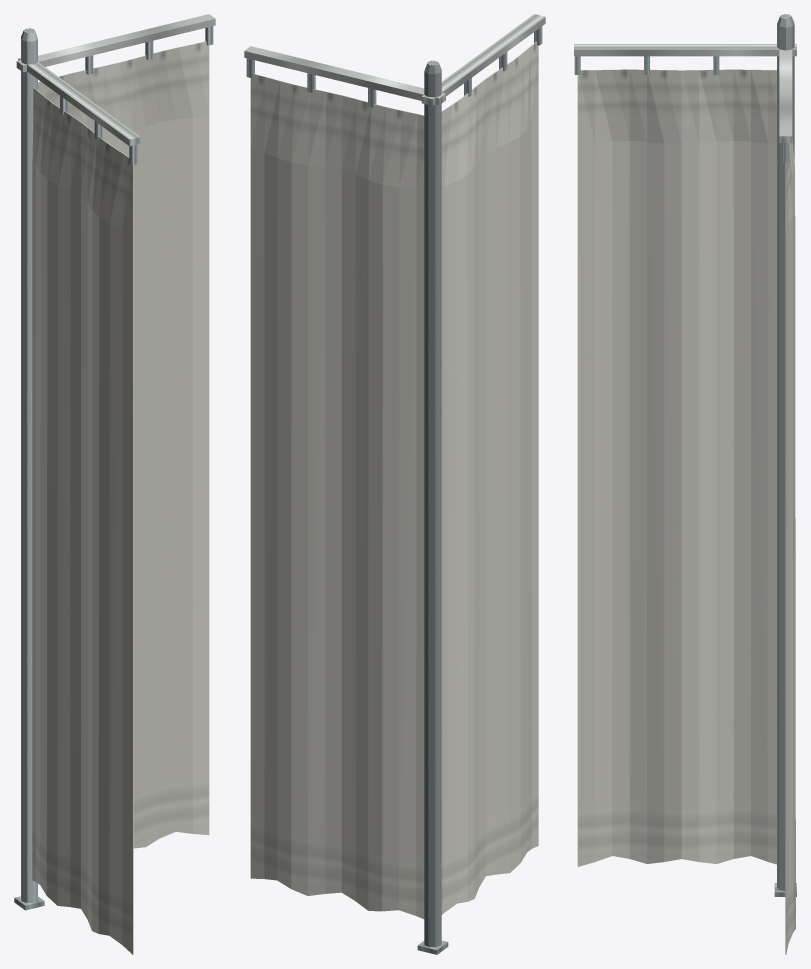
The model's file is pool_curtain_corner.glb.
The picture shows the model from 3 angles, left to right: view 1: azimuth 30°, elevation 25°; view 2: azimuth 150°, elevation 25°; view 3: azimuth 270°, elevation 25°; orthographic projection.
Visible parts, largest first — view 1: core_pool_curtain_corner; view 2: core_pool_curtain_corner; view 3: core_pool_curtain_corner.
Boxes of the visible parts, x1,y1,x2,y2 form: core_pool_curtain_corner: (14, 14, 215, 954); core_pool_curtain_corner: (244, 14, 545, 954); core_pool_curtain_corner: (574, 14, 796, 954).
Bounding box in the file's own units: 0.6 × 2.6 × 0.6.
1 material, 1 textured.
